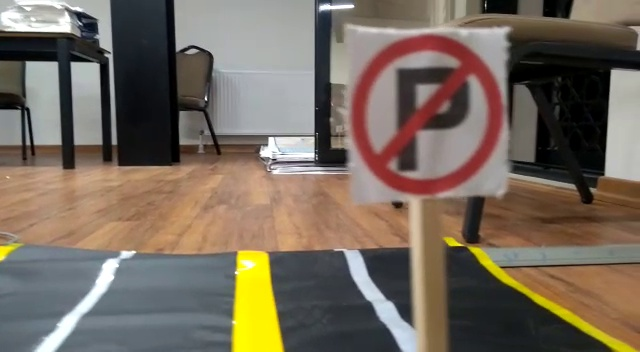park_yapilmaz: (350, 28, 511, 196)
